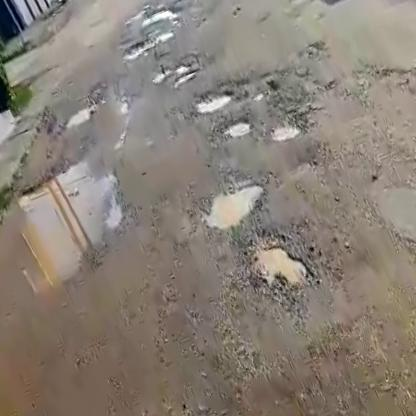pothole: (0, 154, 154, 324), (238, 219, 324, 313), (190, 170, 273, 243), (150, 55, 203, 96), (118, 24, 176, 61), (187, 80, 236, 118), (267, 115, 305, 149), (220, 114, 258, 145), (60, 103, 98, 128)
